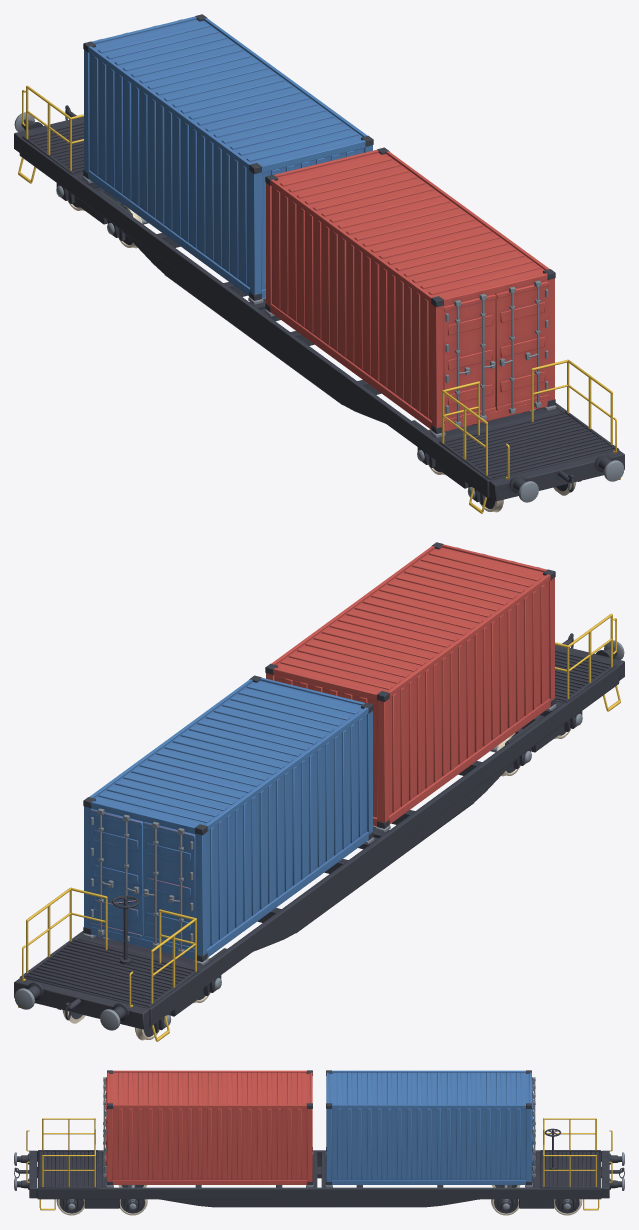
File: freight-container-car.glb
3 views of the same model, one above another, from view 1: azimuth 30°, elevation 25°; view 2: azimuth 150°, elevation 25°; view 3: azimuth 270°, elevation 25° (orthographic). The views are drawn at different scales.
Parts seen in each view (by area): view 1: freight-container-car_body; view 2: freight-container-car_body; view 3: freight-container-car_body.
Part boxes in pixels (x1,y1,x2,y2): freight-container-car_body: [14, 14, 624, 513]; freight-container-car_body: [14, 542, 624, 1041]; freight-container-car_body: [14, 1070, 624, 1215].
Bounding box in the file's own units: 2.88 × 3.78 × 18.
1 material, 1 textured.
